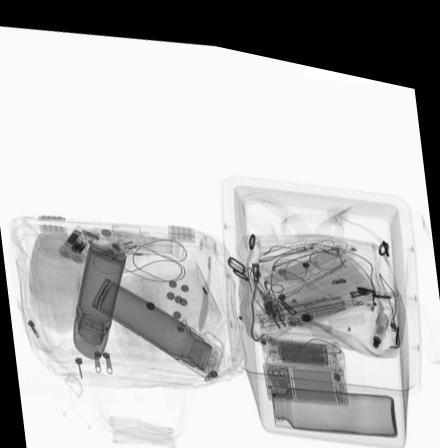Lighter: (285, 301, 333, 320)
